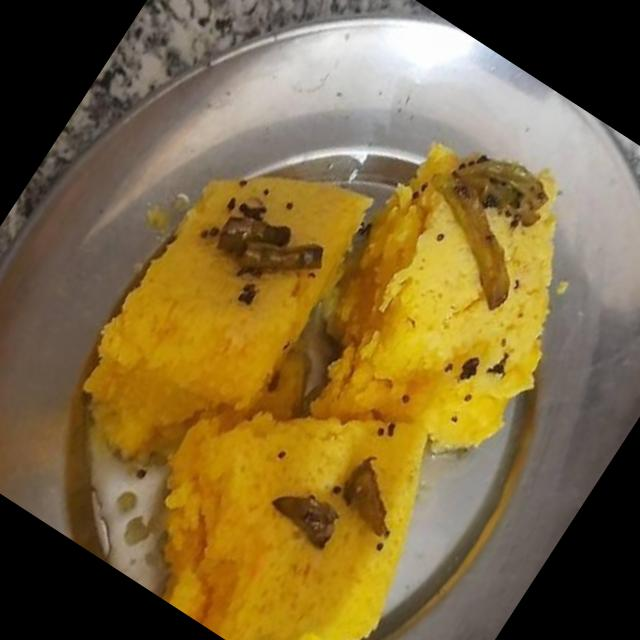dhokla: (4, 22, 623, 640)
